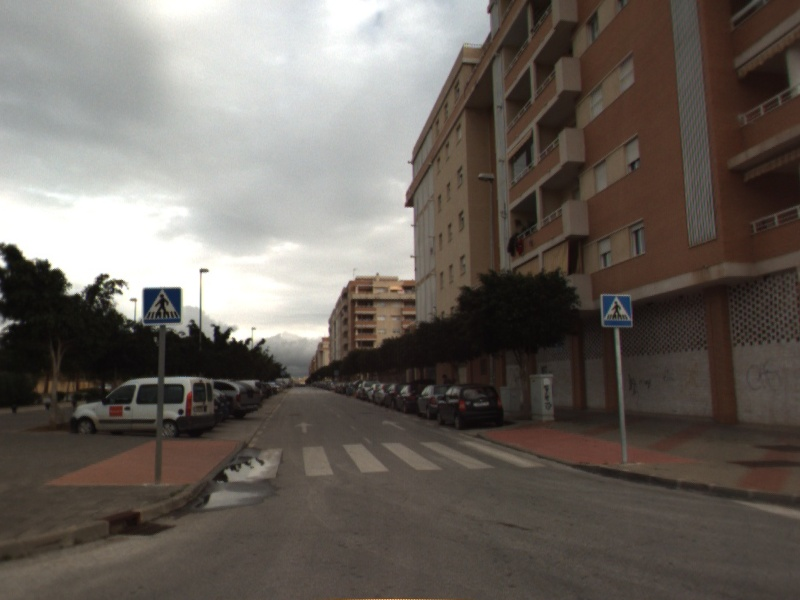STRAIGHT: (380, 418, 408, 432), (293, 420, 315, 435)
